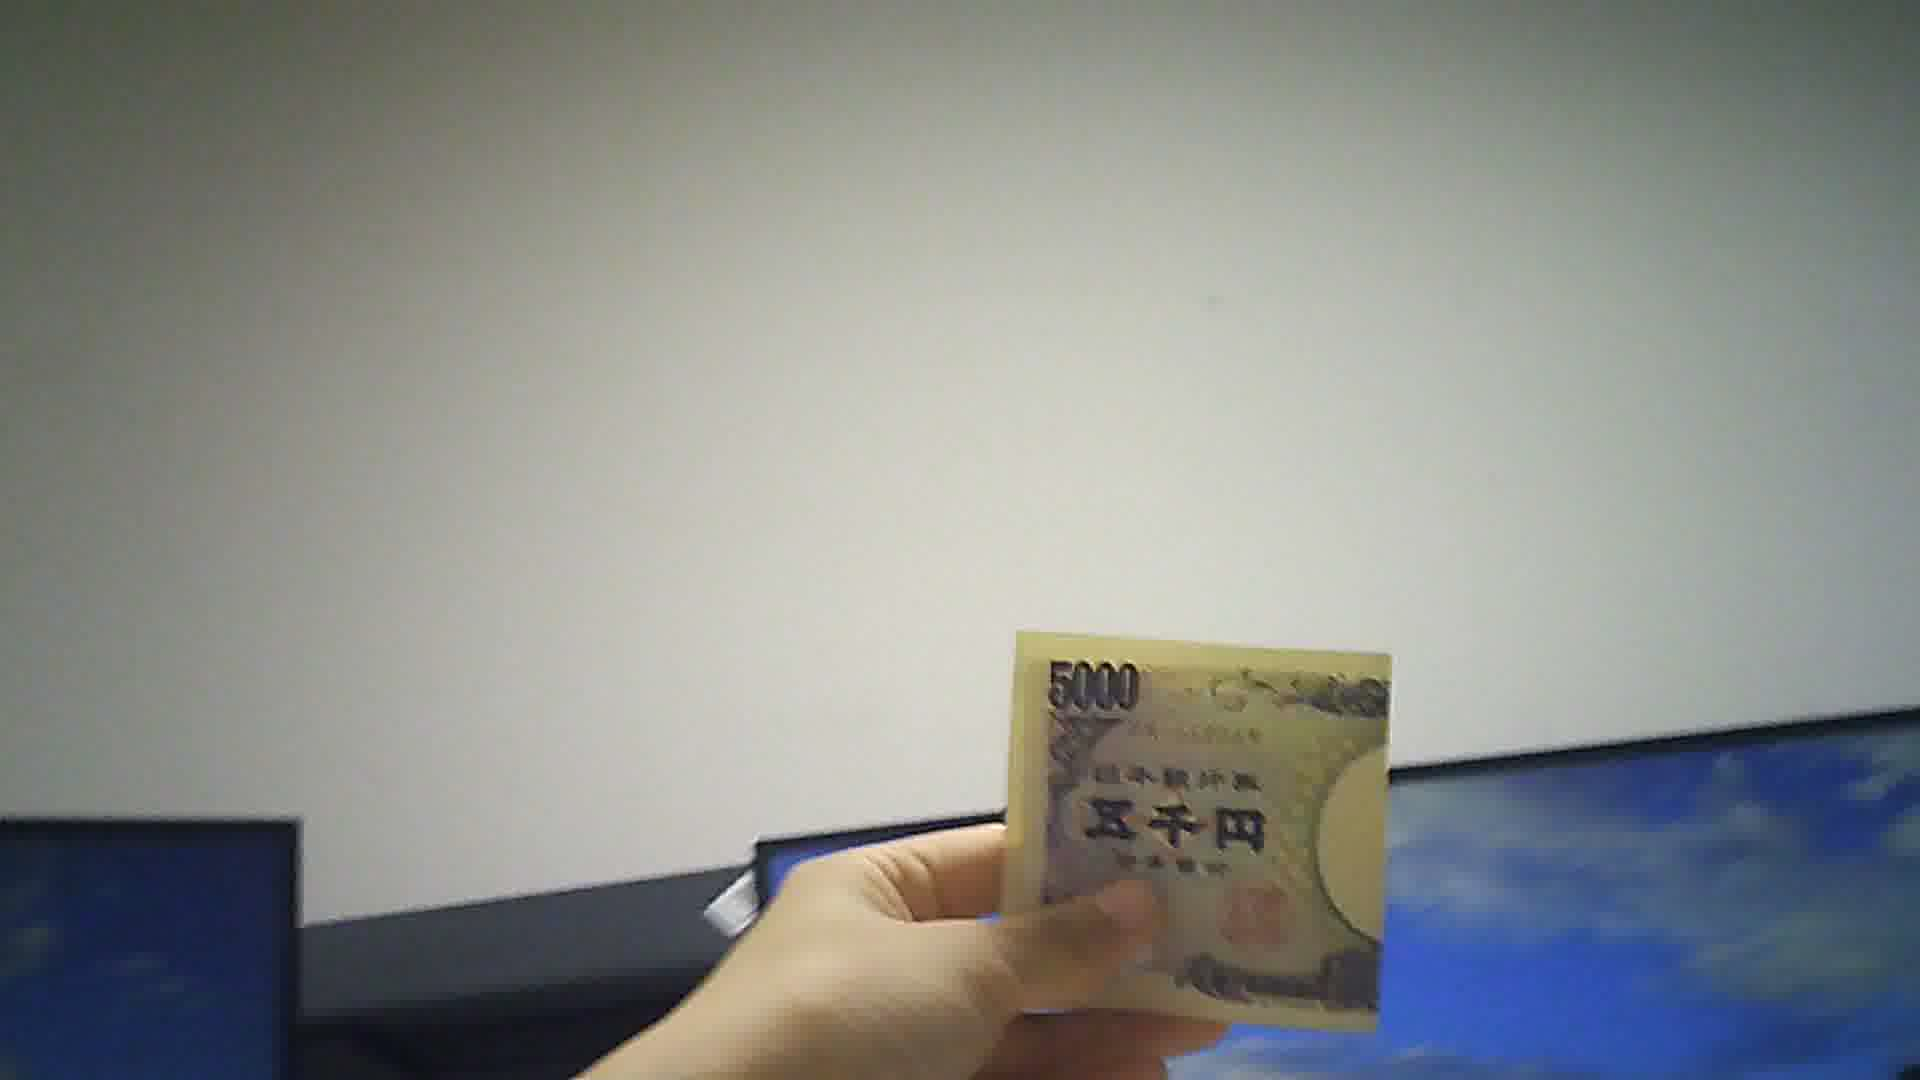5,000 Yen: (972, 605, 1422, 1035)
